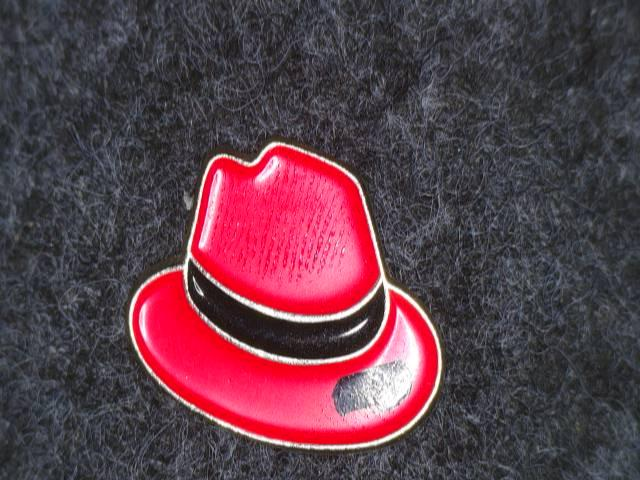Red-Hat: (90, 103, 481, 470)
Scratch: (315, 347, 445, 436)
